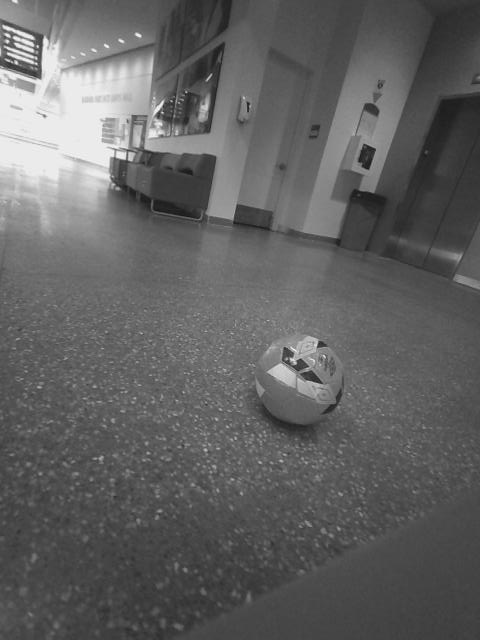ball: (253, 330, 349, 429)
